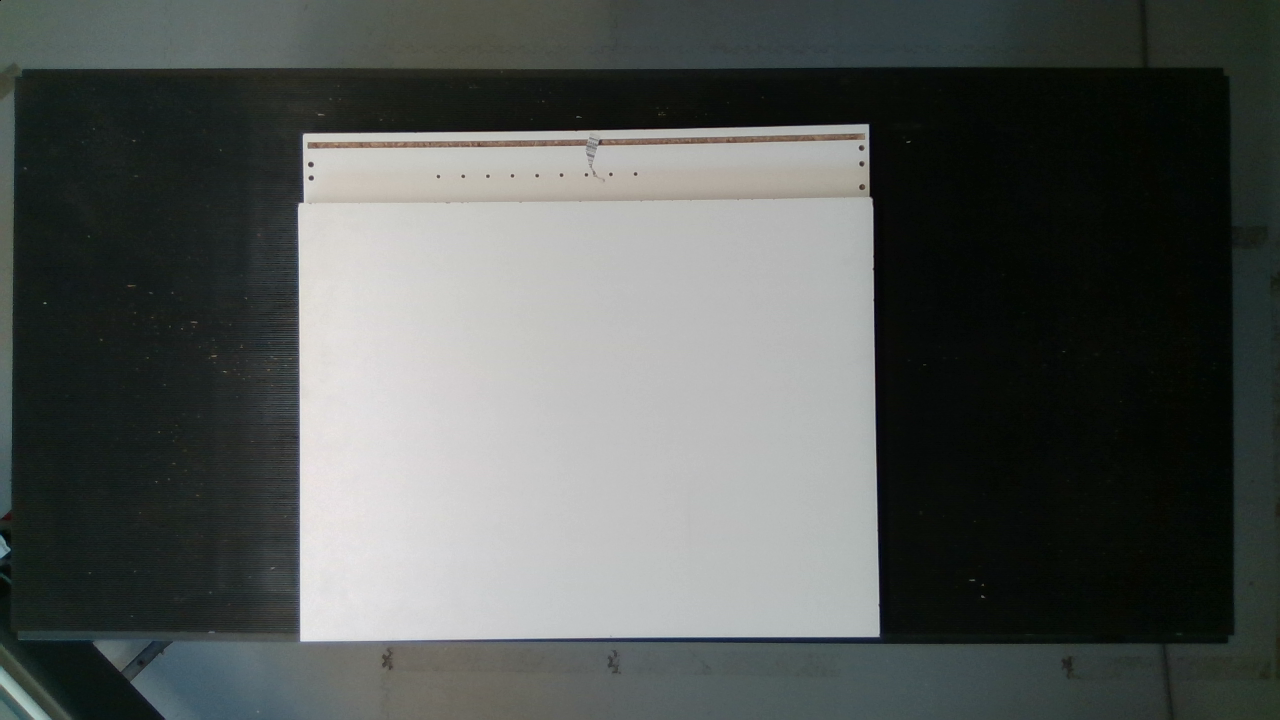part2: (288, 195, 901, 642)
